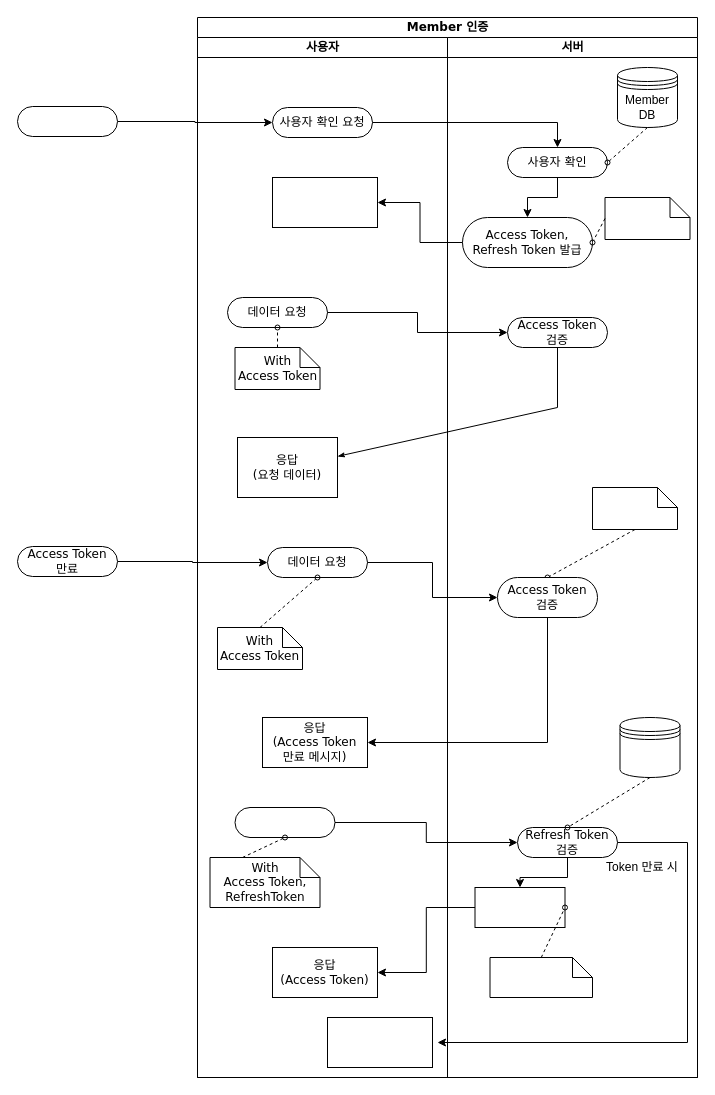
Image size: 715x1095. Some labels were removed from this diagram. The box of each missing label's shape, as (x1, y1, x2, y2) in pixels:
Access Token 발급 요청: (234, 806, 335, 838)
Access Token의 만료 확인: (592, 486, 678, 530)
ID, Pass 일치시 발급: (604, 196, 690, 240)
Refresh Token DB: (619, 716, 680, 778)
Refresh Token 정보 일치시 발급: (489, 956, 592, 998)
사용자 로그인: (16, 106, 118, 136)
새로운 Access Token: (474, 886, 565, 928)
응답 (Access Token, Refresh Token): (272, 176, 378, 228)
응답 (Refresh Token 만료 메시지): (326, 1016, 432, 1068)
